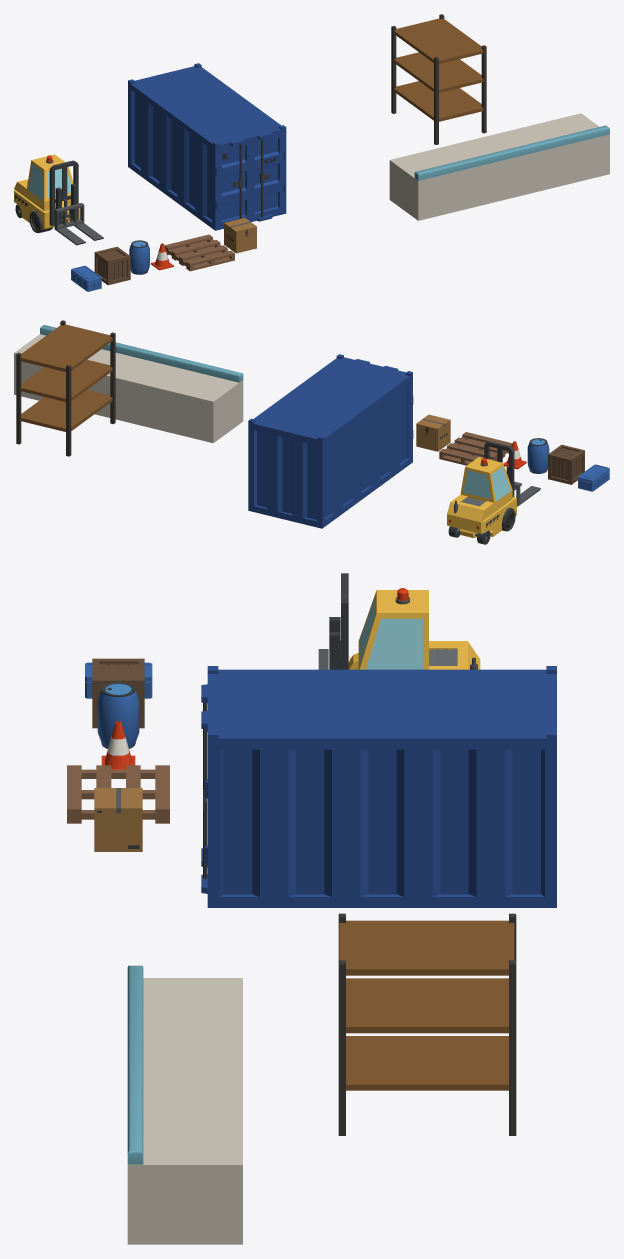
Rendered from KargoModeller.fbx.
The picture shows the model from 3 angles, top to bottom: view 1: azimuth 30°, elevation 25°; view 2: azimuth 150°, elevation 25°; view 3: azimuth 270°, elevation 25°; orthographic projection. The views are drawn at different scales.
Parts seen in each view (by area): view 1: Shipping_container, Cube, Cube.002, Forklift, Cube.001, Pallet, Crate, Box, Barrel, Chest; view 2: Shipping_container, Cube, Cube.002, Forklift, Cube.001, Pallet, Crate, Box, Barrel, Chest; view 3: Shipping_container, Cube.002, Cube, Forklift, Pallet, Cube.001, Box, Barrel, Crate, Cone.
Boxes of the visible parts, bbox=[...] form: Shipping_container: bbox=[128, 63, 286, 230]; Cube: bbox=[389, 113, 609, 220]; Cube.002: bbox=[391, 14, 486, 144]; Forklift: bbox=[14, 154, 103, 245]; Cube.001: bbox=[414, 125, 609, 180]; Pallet: bbox=[164, 234, 234, 271]; Crate: bbox=[94, 246, 130, 285]; Box: bbox=[224, 218, 256, 253]; Barrel: bbox=[129, 240, 149, 274]; Chest: bbox=[71, 265, 101, 291]; Shipping_container: bbox=[248, 354, 413, 528]; Cube: bbox=[14, 334, 243, 443]; Cube.002: bbox=[16, 320, 115, 456]; Forklift: bbox=[447, 441, 540, 544]; Cube.001: bbox=[40, 325, 243, 382]; Pallet: bbox=[439, 432, 512, 465]; Crate: bbox=[548, 444, 584, 484]; Box: bbox=[416, 414, 450, 451]; Barrel: bbox=[527, 438, 549, 473]; Chest: bbox=[578, 464, 609, 491]; Shipping_container: bbox=[201, 666, 556, 907]; Cube.002: bbox=[338, 913, 516, 1135]; Cube: bbox=[127, 978, 242, 1244]; Forklift: bbox=[318, 573, 480, 669]; Pallet: bbox=[67, 765, 169, 823]; Cube.001: bbox=[127, 965, 143, 1164]; Box: bbox=[94, 788, 142, 851]; Barrel: bbox=[97, 681, 139, 748]; Crate: bbox=[92, 658, 144, 728]; Cone: bbox=[101, 721, 135, 769].
Size of the model in its own units: 2138 by 409 by 851.
